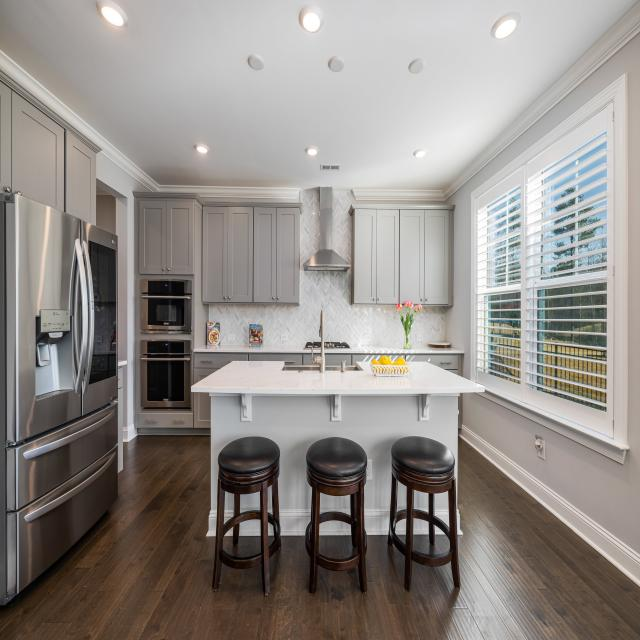Appliance_Fridge: (0, 190, 118, 610)
Appliance_Oven: (141, 340, 192, 414), (140, 279, 191, 332)
Appliance_Sink: (282, 309, 358, 371)
Cabinet_Flat: (193, 353, 318, 369), (411, 354, 462, 372), (325, 354, 368, 366)
Cabinet_Shaker: (138, 199, 298, 305), (0, 79, 95, 225), (354, 209, 452, 305), (135, 393, 211, 430), (191, 368, 219, 384)
Countertop_Solid_Surface: (189, 361, 486, 396), (192, 345, 464, 353)
